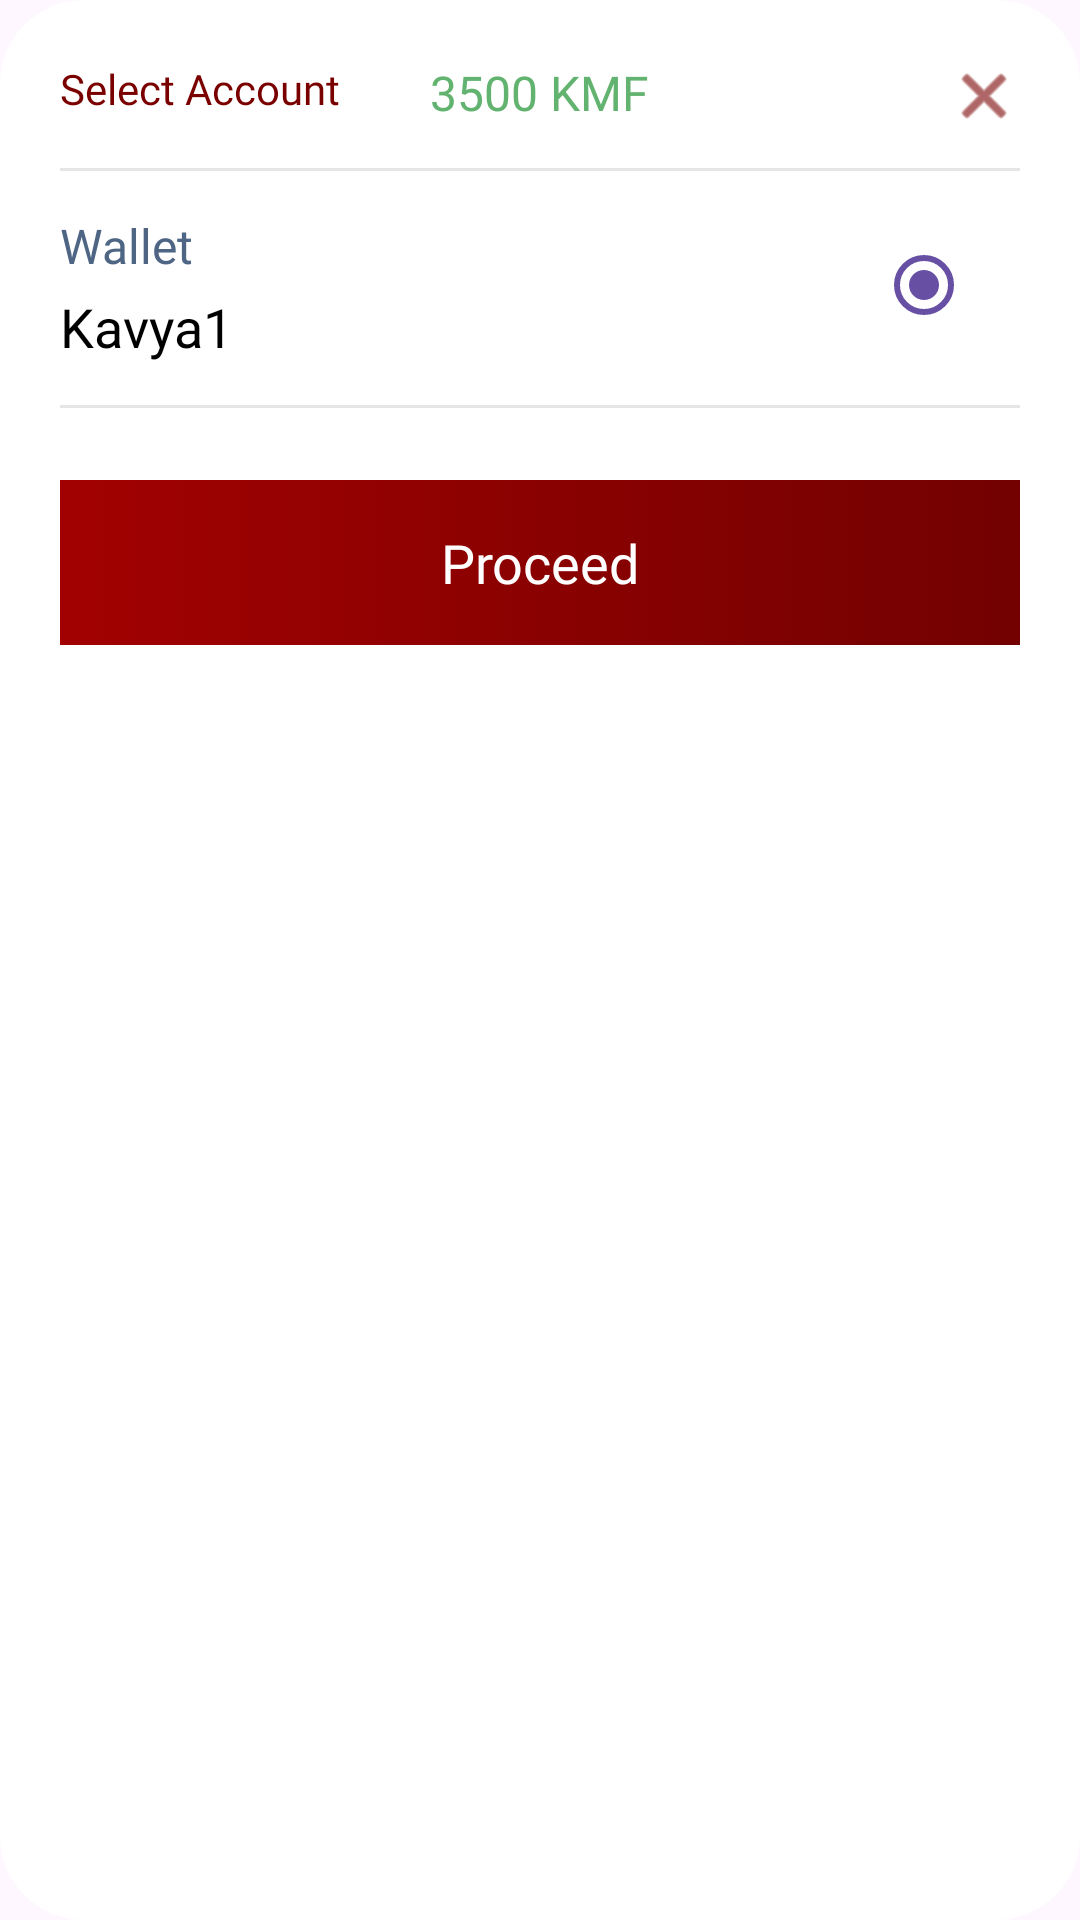

Locate icon controls on the screen. Image size 1080 x 1920, boxes as rect(x1, y1, x2, y2).
close clear cancel: rect(961, 73, 1007, 119)
